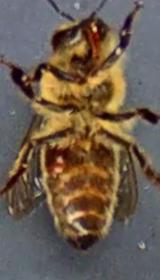varroa_mite: (48, 148, 80, 172)
